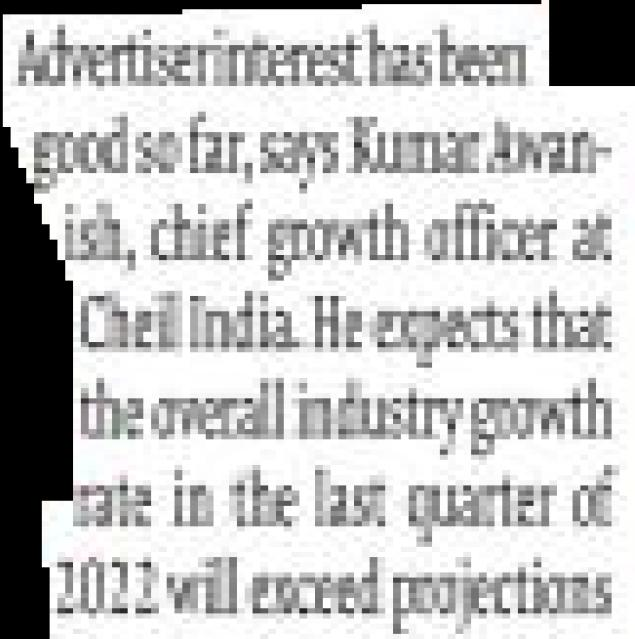paper: (1, 1, 635, 639)
